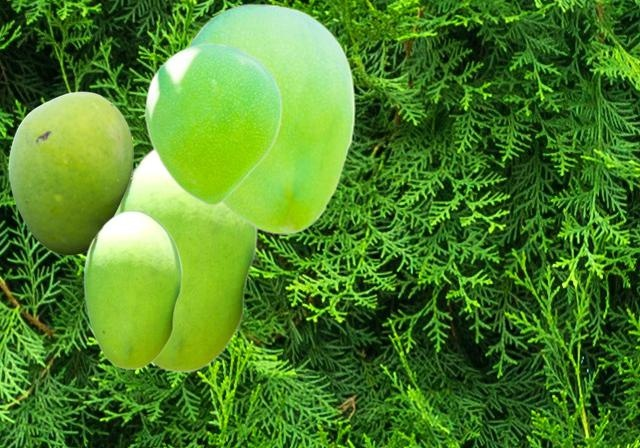green_mango: (185, 3, 354, 233), (117, 147, 256, 371), (145, 42, 281, 205), (8, 91, 132, 254), (83, 209, 181, 368)
